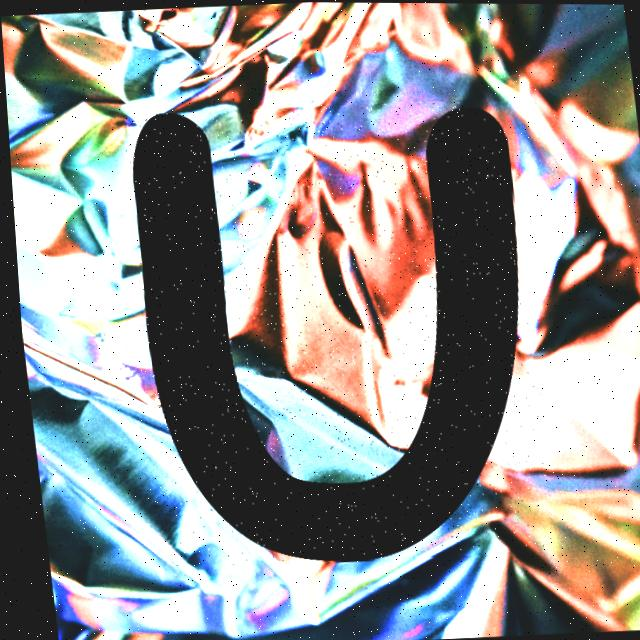U: (132, 108, 515, 561)
